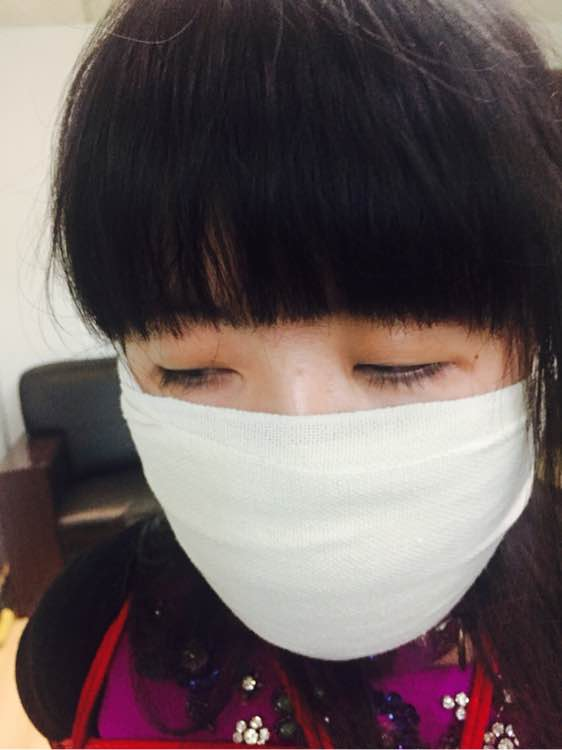face_mask: (122, 96, 535, 664)
